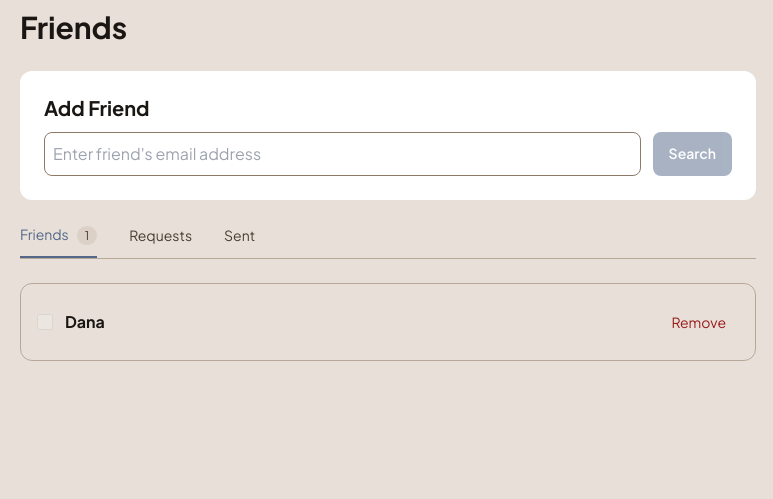
Scenario: remove friend (two-tap tier) › commits on a second tap inside the window and drops the row
Click the button with aria-label "Remove Dana": (699, 322) [658,300,739,344]
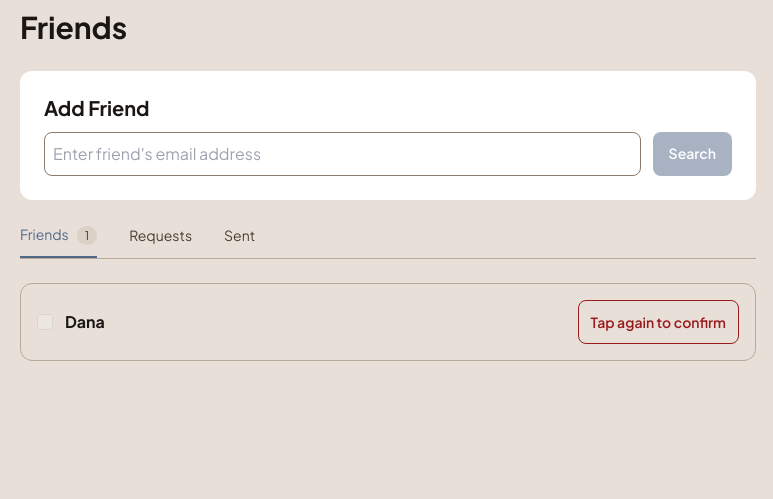
Click the button "Tap again to confirm": (658, 322) [578,300,739,344]
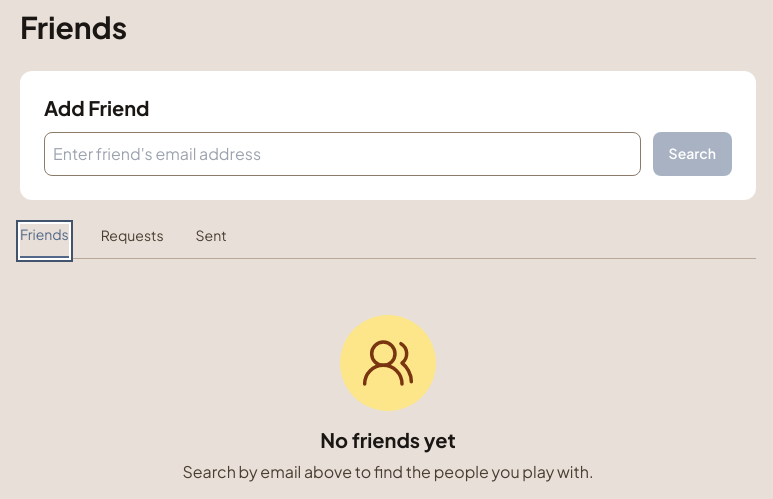
Expected: the text "Dana" is gone
